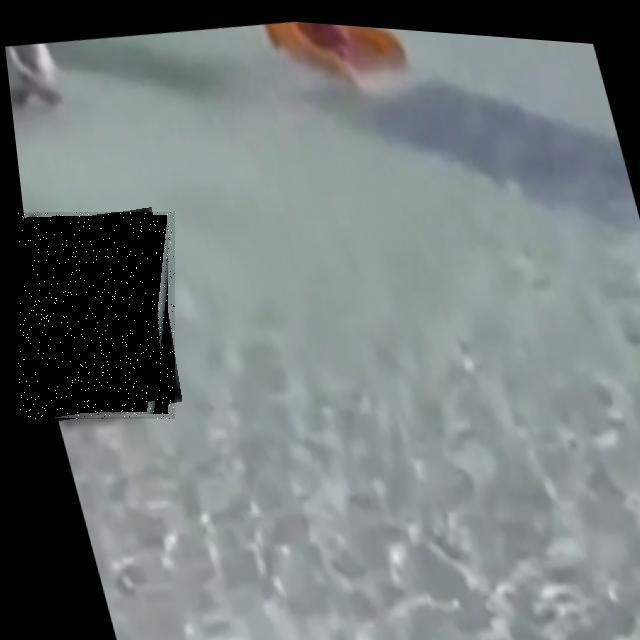swimming: (18, 212, 175, 419)
